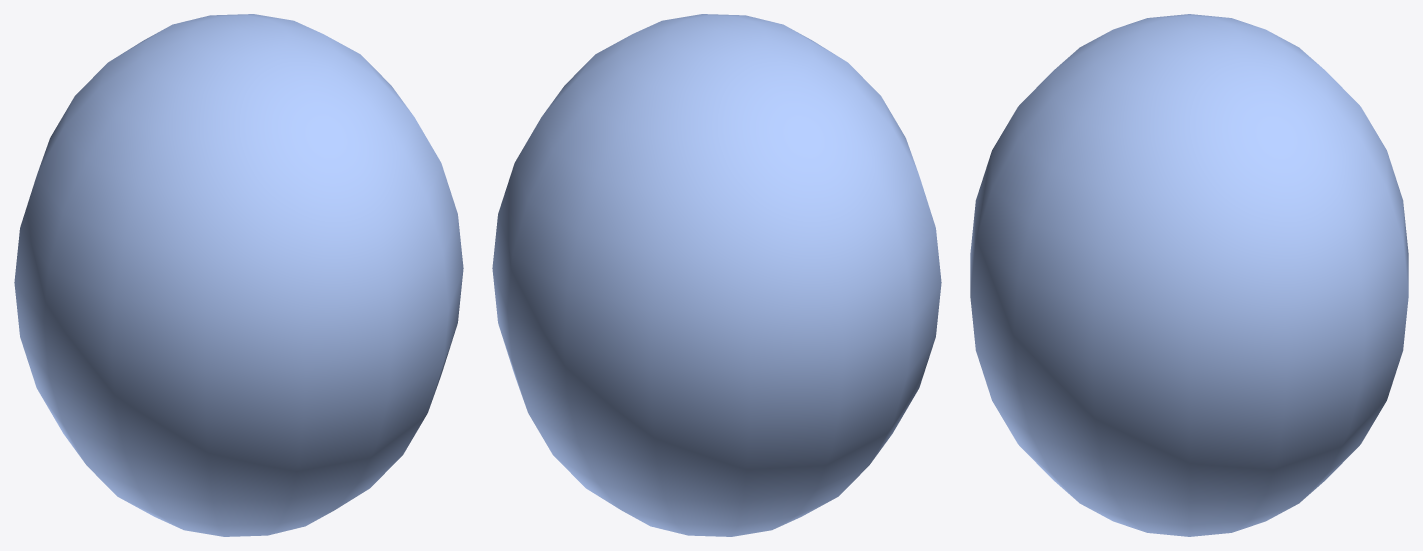
Rendered from Crystalis_stage3.obj.
3 views of the same model, side by side, from view 1: azimuth 30°, elevation 25°; view 2: azimuth 150°, elevation 25°; view 3: azimuth 270°, elevation 25° (orthographic).
Bounding box in the file's own units: 2.6 × 3.12 × 2.53.
